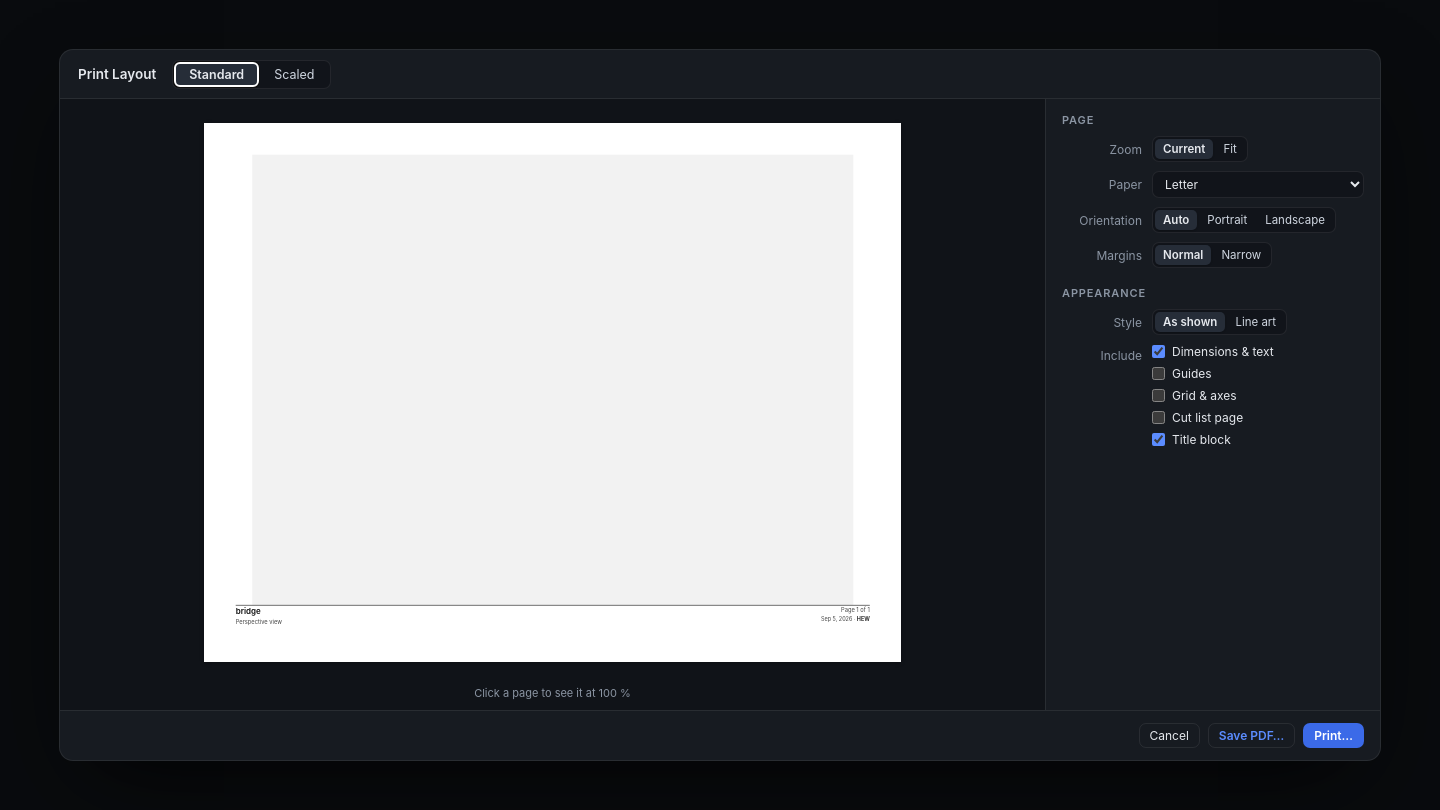
PrintDialog › sizes the cut list on the REAL page geometry: a tiled Scaled job with the band reserved reports one consistent "of N" on every page
Click the button "Scaled" at x=294, y=74, box [260,62,328,86]
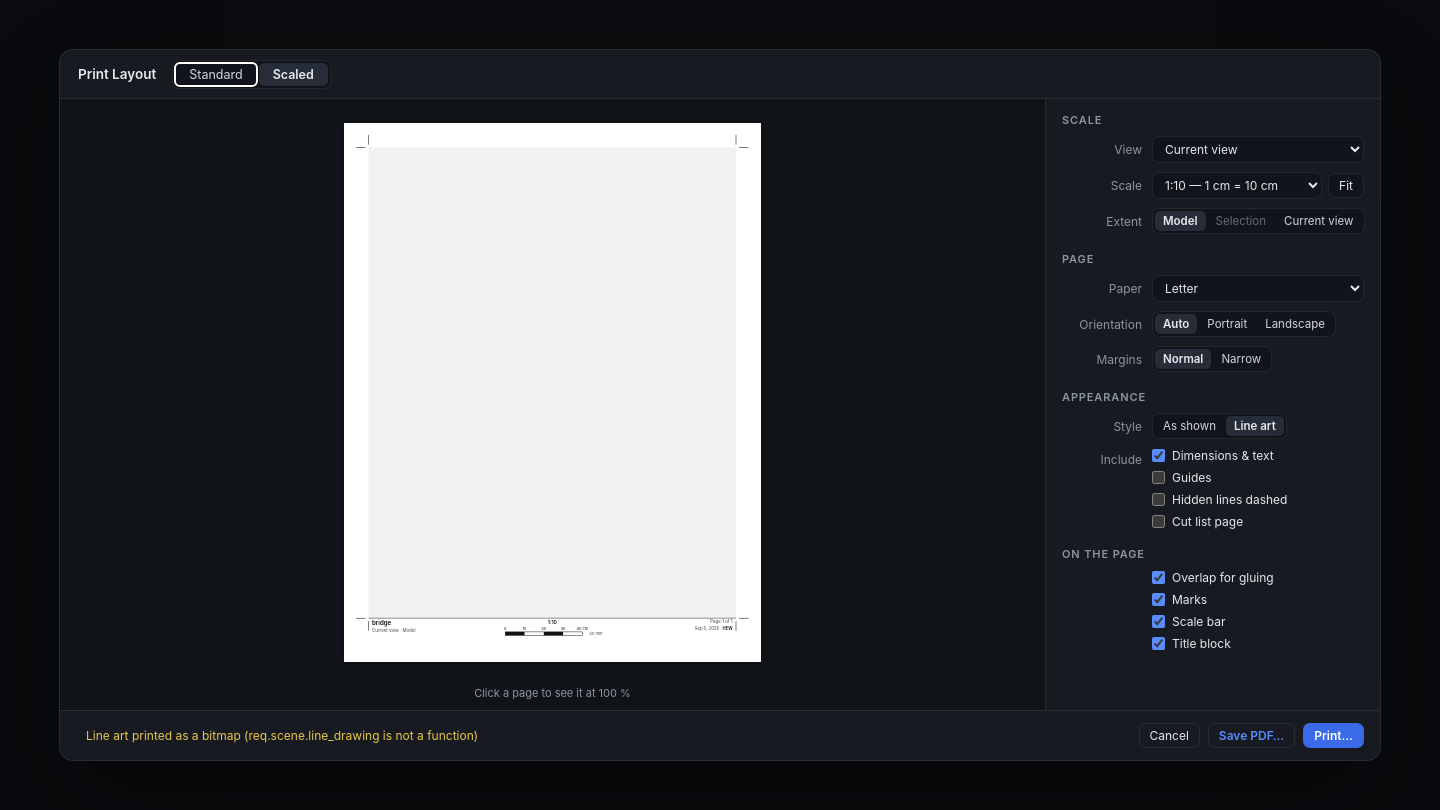
Click the button "Portrait" at x=1227, y=324, box [1199,314,1255,334]
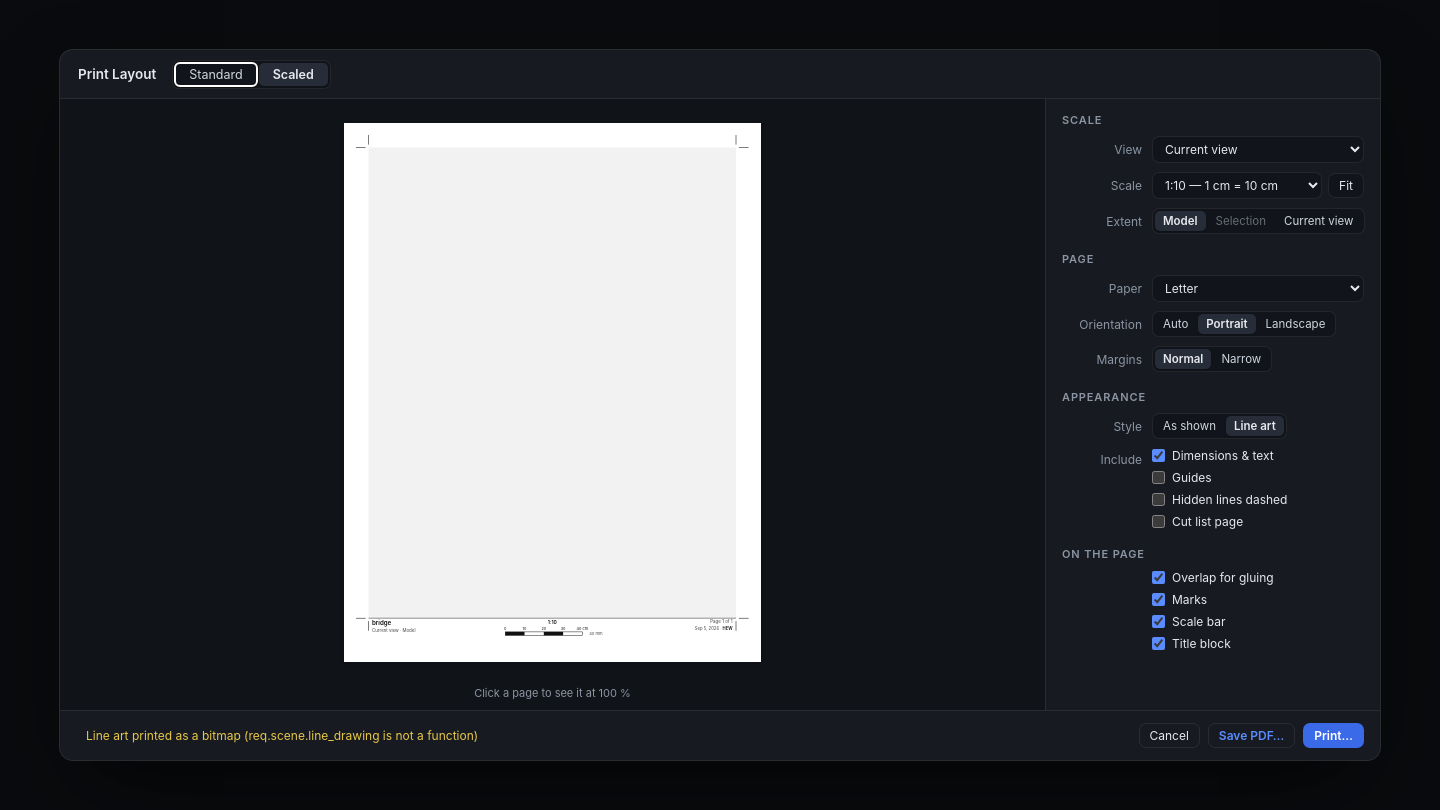
Select "1:1 — 1 cm = 1 cm" in the dropdown labelled "Scale" at x=1237, y=186, box [1152,172,1322,199]
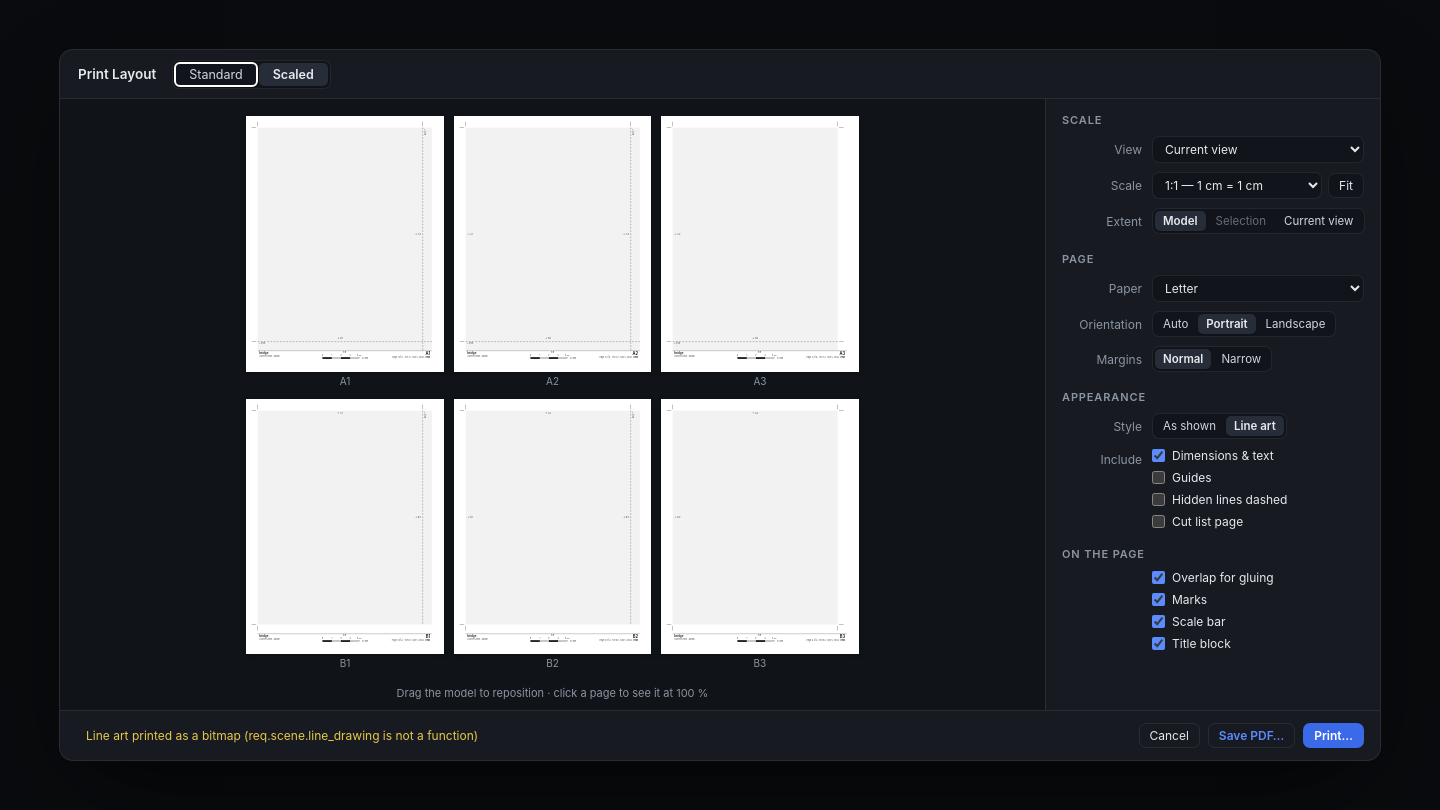
Click the checkbox labelled "Cut list page" at x=1158, y=522, box [1152,515,1165,528]
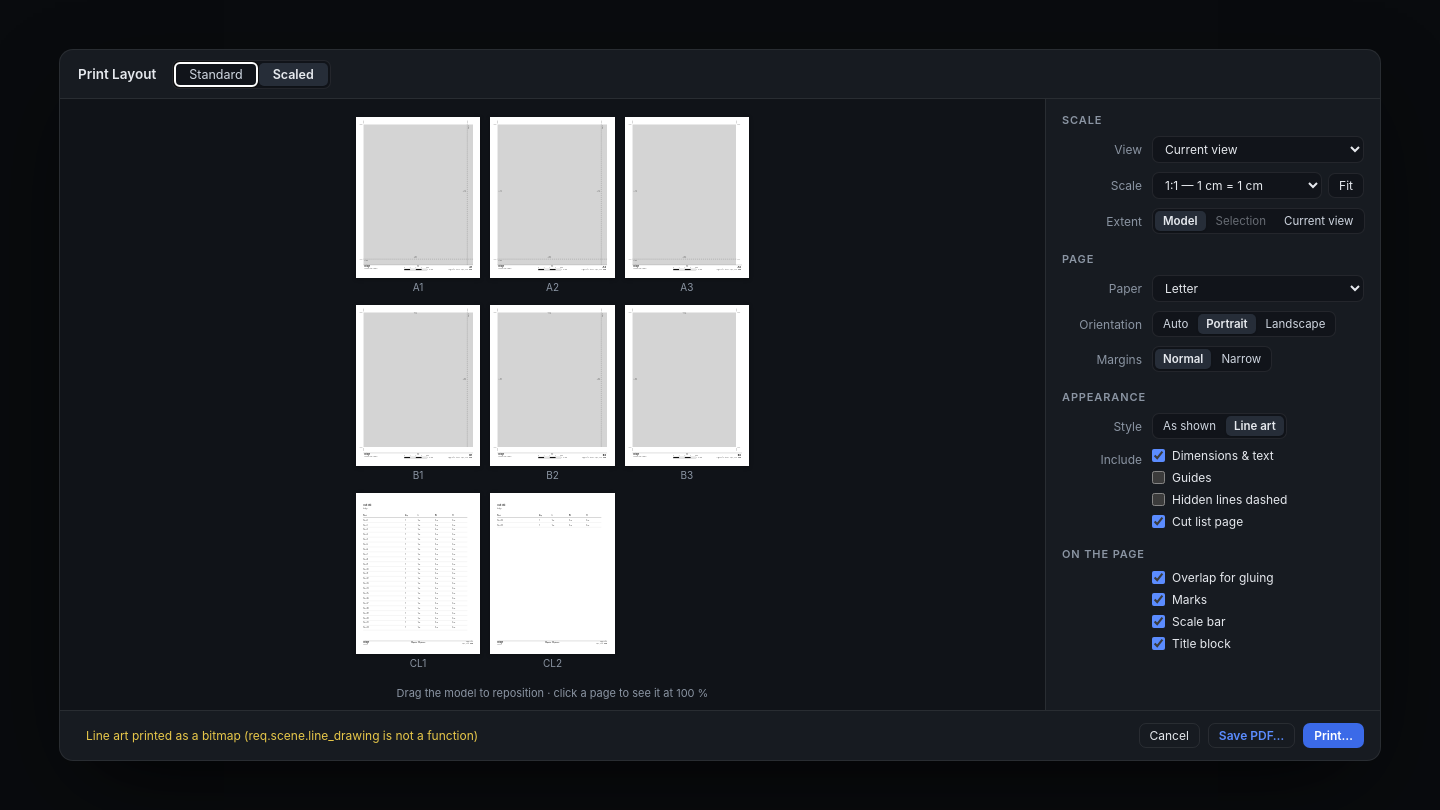
Now the number of elements with test id "print-preview-page" is 8
